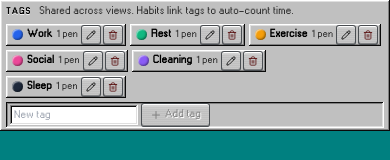
it: TrackingTagsPanel › adds a tag from the inset New tag field
This screenshot has width=390, height=160.
Expected: the element named "New tag name" is shown, [6,102,384,128]
Type "Cooking" into the field named "New tag name" at (74, 114), box [10,104,138,124]
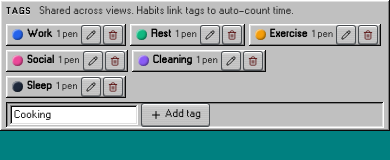
Click the button "Add tag" at (175, 114), box [142,104,209,126]
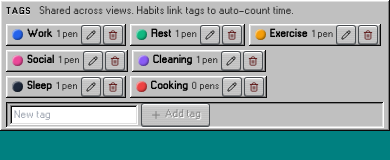
Expected: the text "Cooking" is shown, [151,78,188,95]
Expected: the field named "New tag name" is empty, [10,104,138,124]
